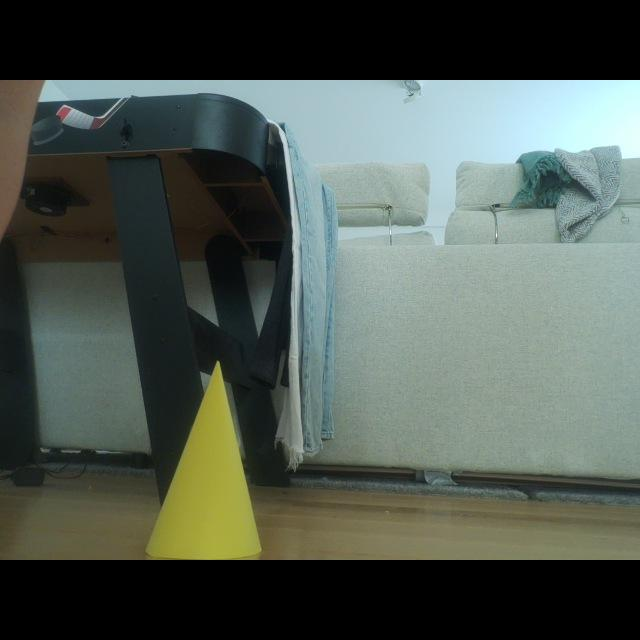bolya: (146, 365, 261, 559)
